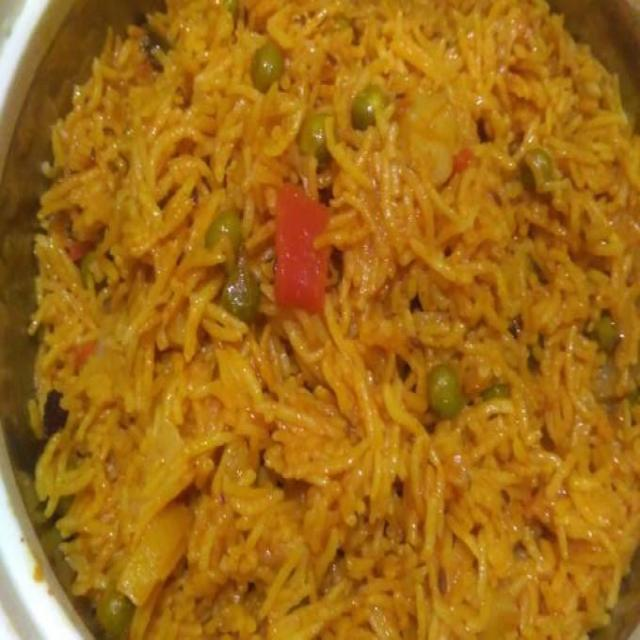veg palav: (11, 0, 640, 640)
